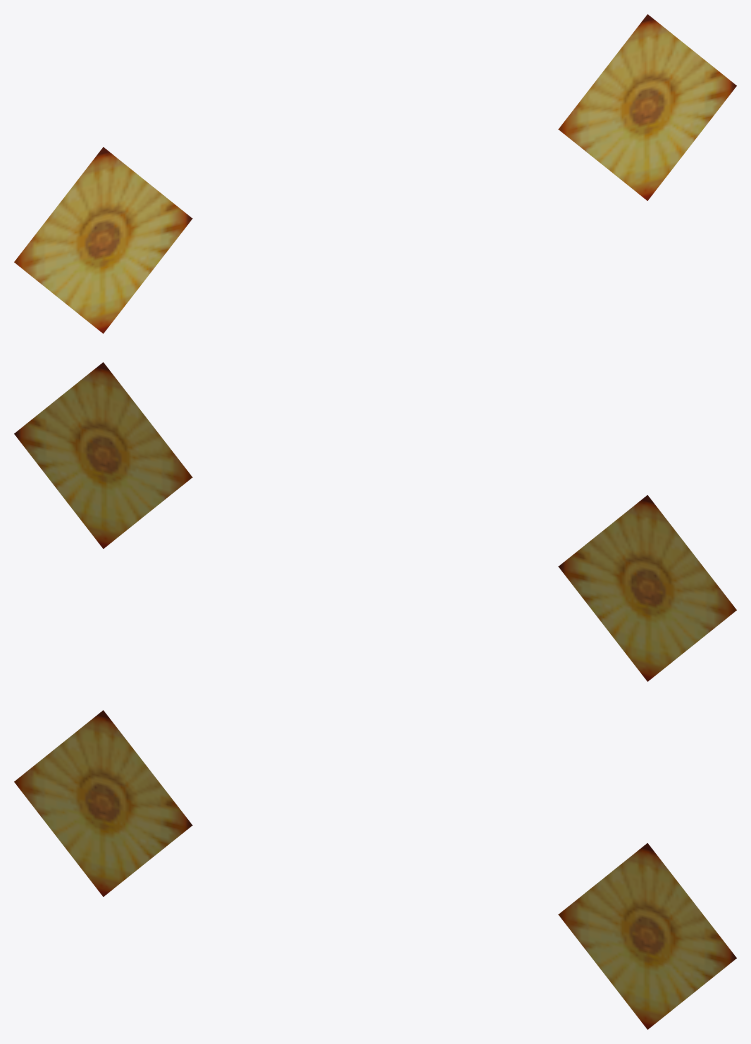
The model's file is kse_firespray_engine_s02_on_l3.fbx.
The picture shows the model from 3 angles, top to bottom: view 1: azimuth 30°, elevation 25°; view 2: azimuth 150°, elevation 25°; view 3: azimuth 330°, elevation 25°; orthographic projection.
Visible parts, largest first — view 1: mesh_node; view 2: mesh_node; view 3: mesh_node.
Boxes of the visible parts, x1,y1,x2,y2 form: mesh_node: (14,14,736,333); mesh_node: (14,362,736,681); mesh_node: (14,710,736,1029).
Bounding box in the file's own units: 5.59 × 1.38 × 0.
1 material, 1 textured.
